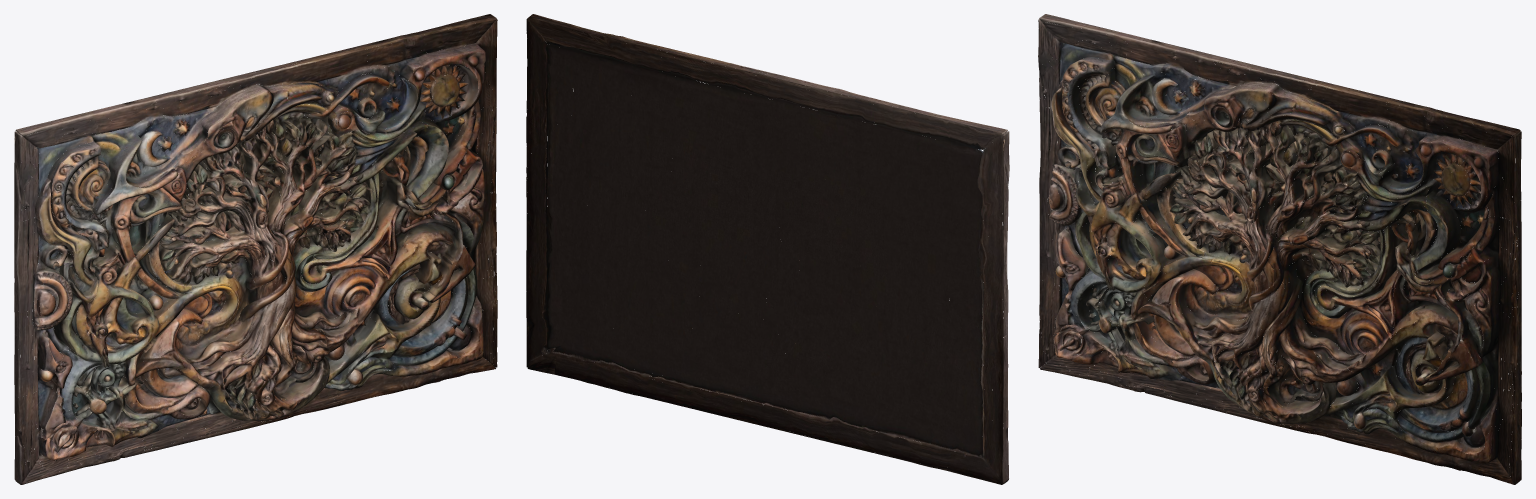
The model's file is H67-web.glb.
The picture shows the model from 3 angles, left to right: view 1: azimuth 30°, elevation 25°; view 2: azimuth 150°, elevation 25°; view 3: azimuth 330°, elevation 25°; orthographic projection.
Visible parts, largest first — view 1: tripo_node_bb543702-7cdb-4b39-bfb5-e54ff661e7f9; view 2: tripo_node_bb543702-7cdb-4b39-bfb5-e54ff661e7f9; view 3: tripo_node_bb543702-7cdb-4b39-bfb5-e54ff661e7f9.
Boxes of the visible parts, x1,y1,x2,y2 form: tripo_node_bb543702-7cdb-4b39-bfb5-e54ff661e7f9: (14,14,497,484); tripo_node_bb543702-7cdb-4b39-bfb5-e54ff661e7f9: (526,14,1009,484); tripo_node_bb543702-7cdb-4b39-bfb5-e54ff661e7f9: (1038,14,1521,484).
Bounding box in the file's own units: 0.6 × 0.4222 × 0.0564.
1 material, 1 textured.
